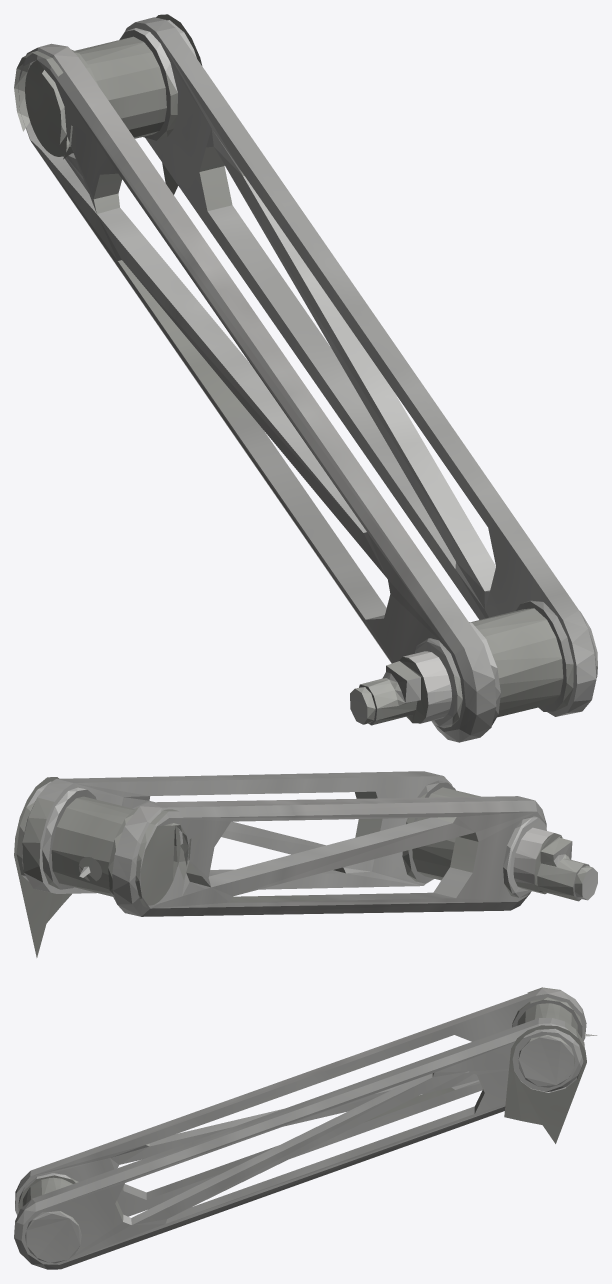
The model's file is brazo.obj.
3 renders of one model, top to bottom at view 1: azimuth 30°, elevation 25°; view 2: azimuth 150°, elevation 25°; view 3: azimuth 270°, elevation 25°, orthographic. The views are drawn at different scales.
Visible parts, largest first — view 1: robotic_arm.006; view 2: robotic_arm.006; view 3: robotic_arm.006.
Boxes of the visible parts, x1,y1,x2,y2 form: robotic_arm.006: [14, 14, 597, 742]; robotic_arm.006: [14, 771, 597, 957]; robotic_arm.006: [14, 987, 597, 1269].
Bounding box in the file's own units: 2.24 × 4 × 8.52.
Materials: 1 (1 with a texture image).
